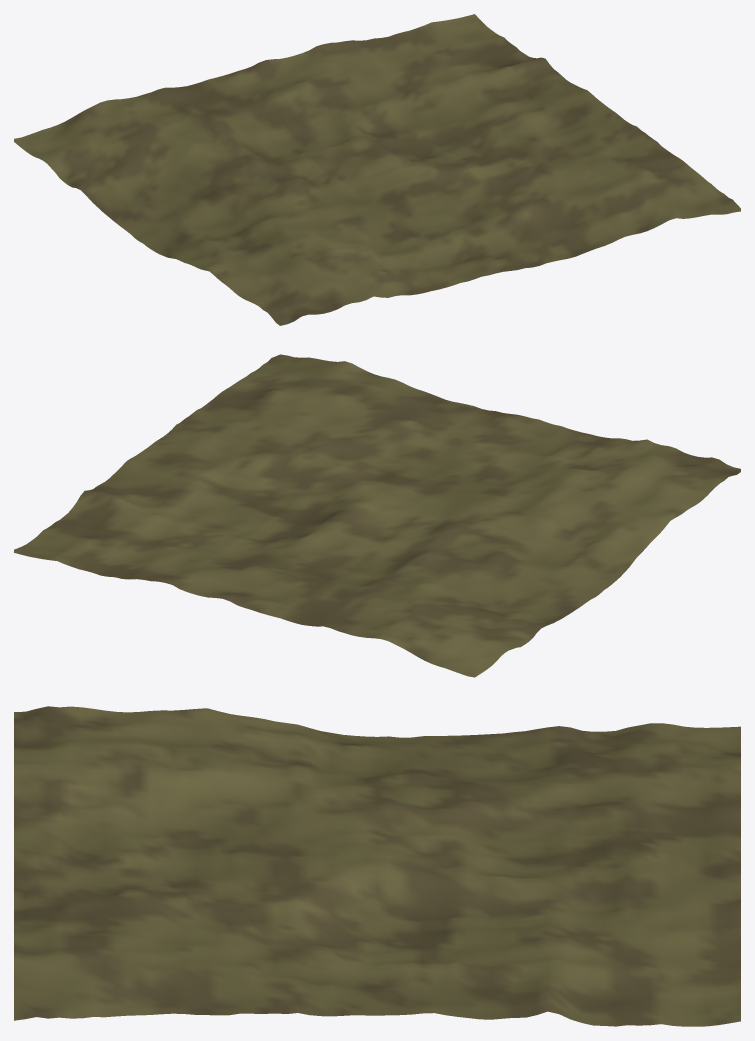
Rendered from land_f_00_06.glb.
3 renders of one model, top to bottom at view 1: azimuth 30°, elevation 25°; view 2: azimuth 150°, elevation 25°; view 3: azimuth 270°, elevation 25°, orthographic. The views are drawn at different scales.
Visible parts, largest first — view 1: land_f_00_06; view 2: land_f_00_06; view 3: land_f_00_06.
Part boxes in pixels (box(x1,y1,x2,y2)): land_f_00_06: box(14, 14, 740, 325); land_f_00_06: box(14, 354, 740, 677); land_f_00_06: box(14, 706, 740, 1026).
Size of the model in its own units: 3840 by 275 by 3840.
